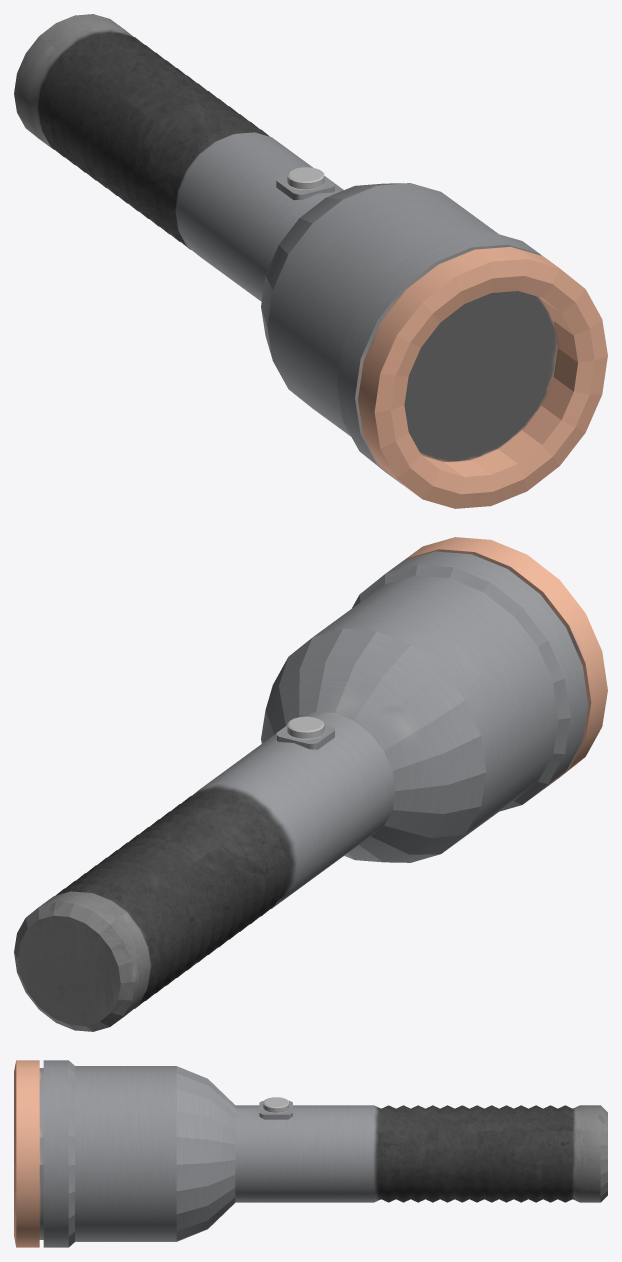
File: flashlight2.0.fbx
The picture shows the model from 3 angles, top to bottom: view 1: azimuth 30°, elevation 25°; view 2: azimuth 150°, elevation 25°; view 3: azimuth 270°, elevation 25°; orthographic projection. The views are drawn at different scales.
Parts seen in each view (by area): view 1: polySurface4; view 2: polySurface4; view 3: polySurface4.
Part boxes in pixels (x1,y1,x2,y2): polySurface4: [14, 14, 607, 508]; polySurface4: [14, 537, 607, 1031]; polySurface4: [14, 1060, 607, 1247].
Bounding box in the file's own units: 54.09 × 54.09 × 170.
